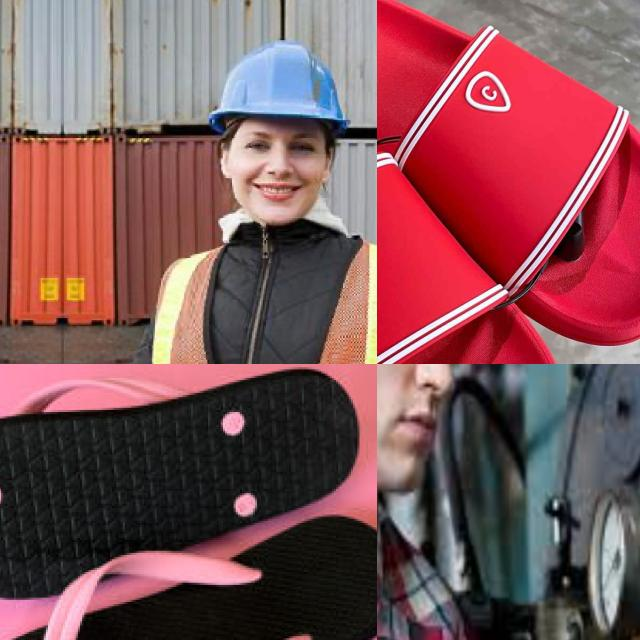Ear-protection: (377, 364, 504, 519)
No_Ear-Protection: (322, 146, 337, 186), (218, 143, 232, 178)
No_Glasses: (237, 131, 326, 160)
Sandals: (0, 364, 377, 640), (377, 0, 640, 364)
face_nomask: (229, 155, 325, 225)
head_helmet: (208, 41, 348, 134)
